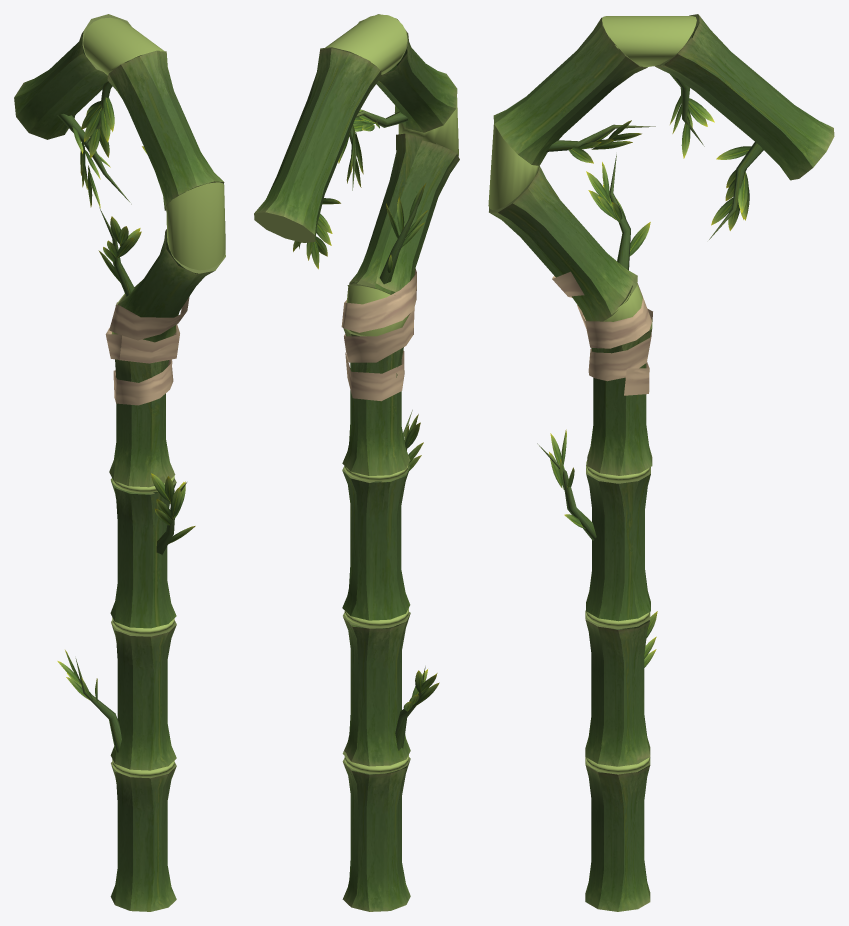
File: BambooStaffFBX.fbx
The picture shows the model from 3 angles, left to right: view 1: azimuth 30°, elevation 25°; view 2: azimuth 150°, elevation 25°; view 3: azimuth 270°, elevation 25°; orthographic projection. The views are drawn at different scales.
Parts seen in each view (by area): view 1: BambooStaff; view 2: BambooStaff; view 3: BambooStaff.
Part boxes in pixels (x1,y1,x2,y2): BambooStaff: (14,14,225,911); BambooStaff: (254,14,459,911); BambooStaff: (488,14,834,911).
Bounding box in the file's own units: 2.63 × 19.12 × 6.84.
5 materials, 4 textured.
